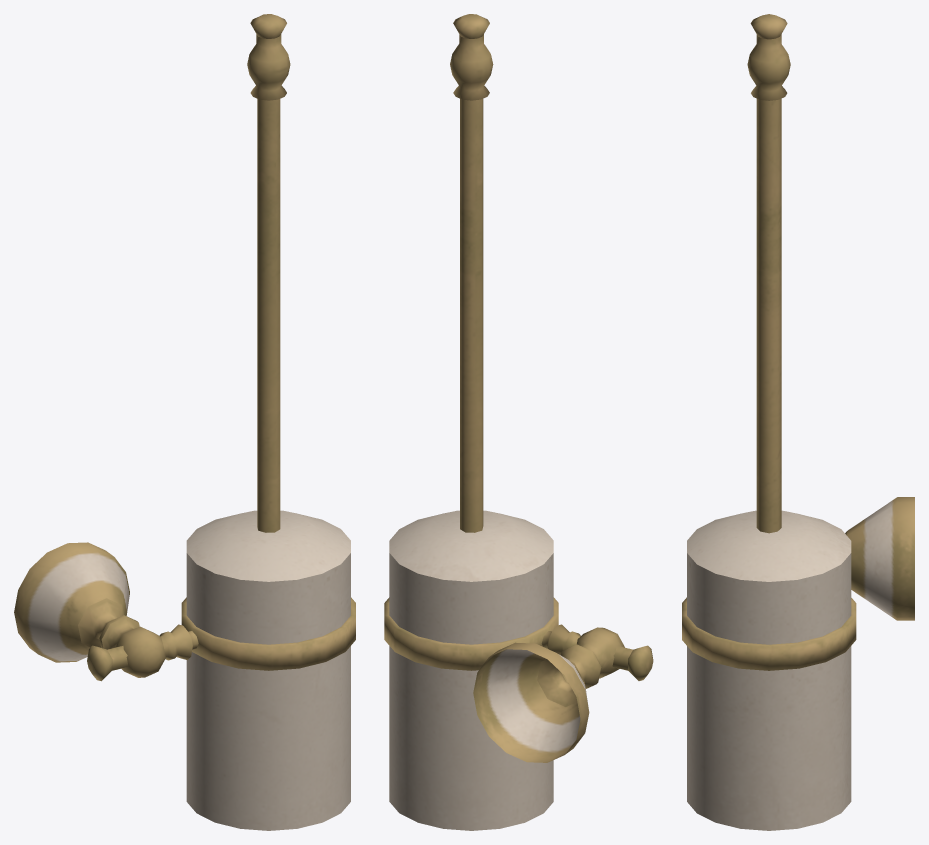
File: ToiletBrush.fbx
3 views of the same model, side by side, from view 1: azimuth 30°, elevation 25°; view 2: azimuth 150°, elevation 25°; view 3: azimuth 270°, elevation 25° (orthographic).
Visible parts, largest first — view 1: ToiletBrush; view 2: ToiletBrush; view 3: ToiletBrush.
Boxes of the visible parts, left/top/right/bottom form: ToiletBrush: left=14, top=14, right=355, bottom=830; ToiletBrush: left=384, top=14, right=653, bottom=830; ToiletBrush: left=682, top=14, right=914, bottom=830.
Size of the model in its own units: 16.87 by 48.5 by 13.17.
